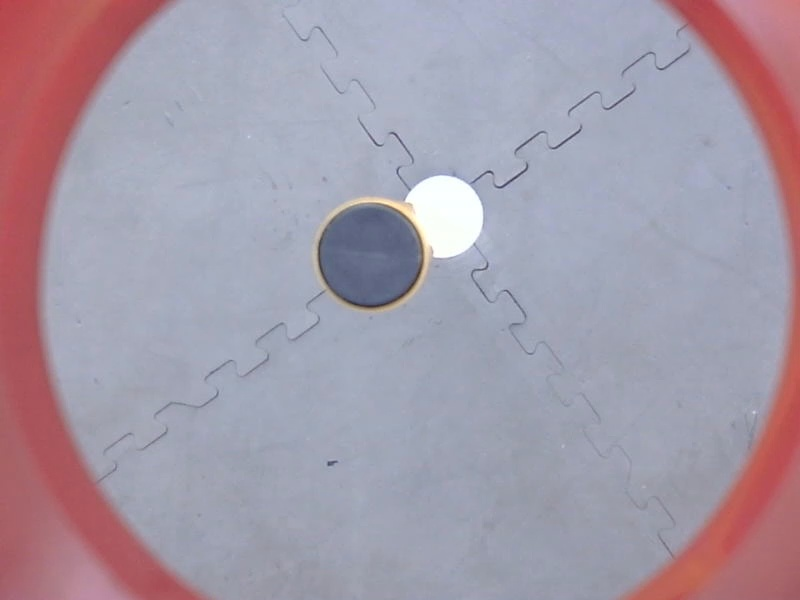tip: (305, 192, 435, 322)
